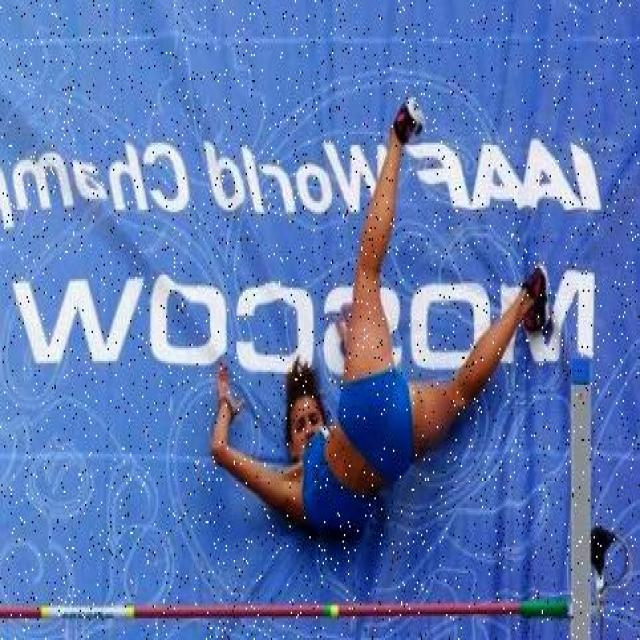fall: (210, 180, 519, 538)
